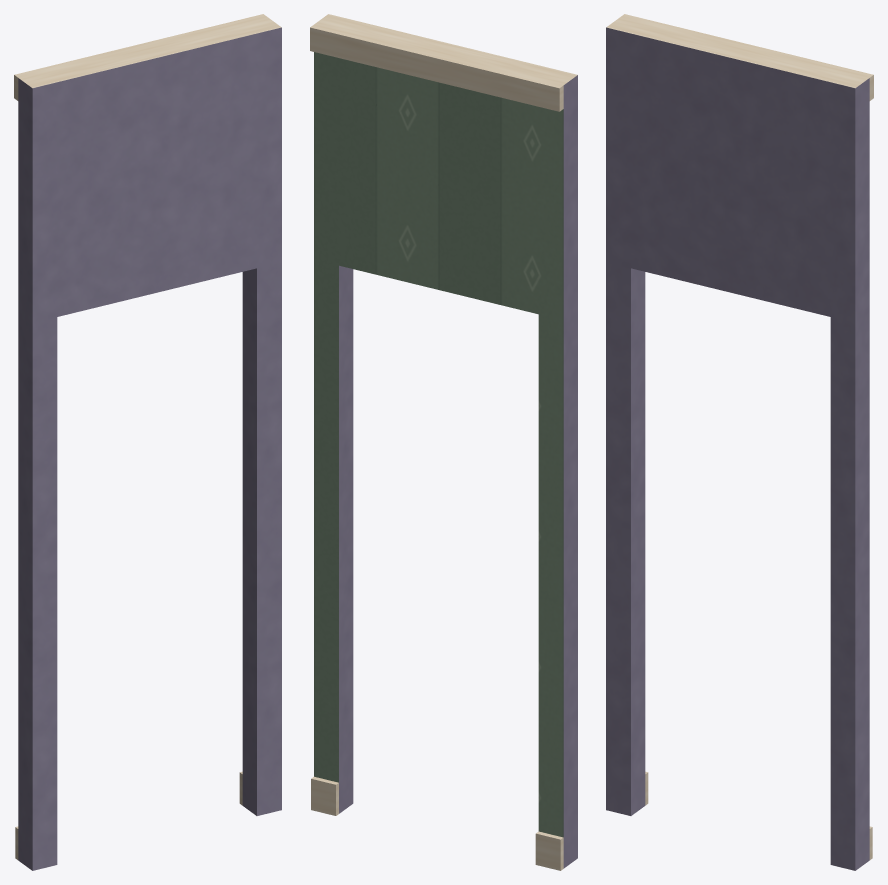
The model's file is SM_Wall_Door_1x3.fbx.
The picture shows the model from 3 angles, left to right: view 1: azimuth 30°, elevation 25°; view 2: azimuth 150°, elevation 25°; view 3: azimuth 330°, elevation 25°; orthographic projection.
Visible parts, largest first — view 1: SM_Wall_Door_1x3; view 2: SM_Wall_Door_1x3; view 3: SM_Wall_Door_1x3.
Boxes of the visible parts, box(x1,y1,x2,y2) form: SM_Wall_Door_1x3: box(14, 14, 281, 870); SM_Wall_Door_1x3: box(310, 14, 577, 870); SM_Wall_Door_1x3: box(606, 14, 873, 870).
Size of what is drawn, in the model's own units: 1 by 3 by 0.128.
Materials: 3 (3 with a texture image).
